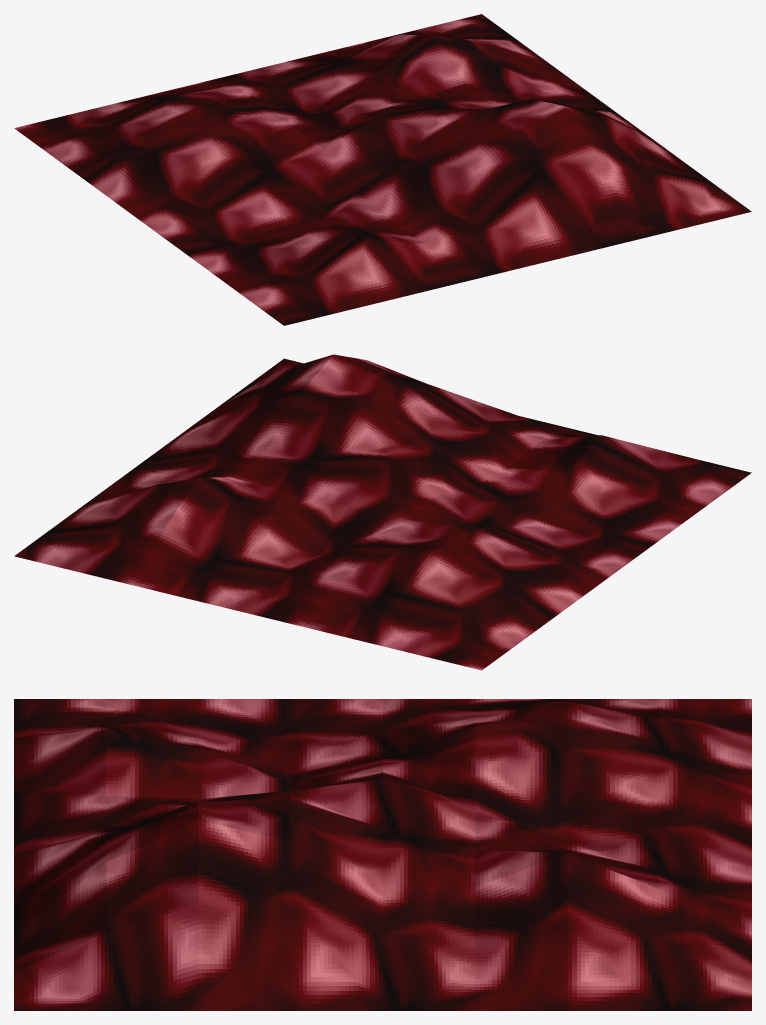
The model's file is Classic64_RedGemstonePile2_Model.fbx.
3 renders of one model, top to bottom at view 1: azimuth 30°, elevation 25°; view 2: azimuth 150°, elevation 25°; view 3: azimuth 270°, elevation 25°, orthographic. The views are drawn at different scales.
Parts seen in each view (by area): view 1: Classic64_RedGemstonePile2_Part000; view 2: Classic64_RedGemstonePile2_Part000; view 3: Classic64_RedGemstonePile2_Part000.
Boxes of the visible parts, x1,y1,x2,y2 form: Classic64_RedGemstonePile2_Part000: [14, 14, 751, 325]; Classic64_RedGemstonePile2_Part000: [14, 354, 751, 670]; Classic64_RedGemstonePile2_Part000: [14, 699, 751, 1010].
Size of the model in its own units: 1.22 by 0.2087 by 1.22.
1 material, 1 textured.
